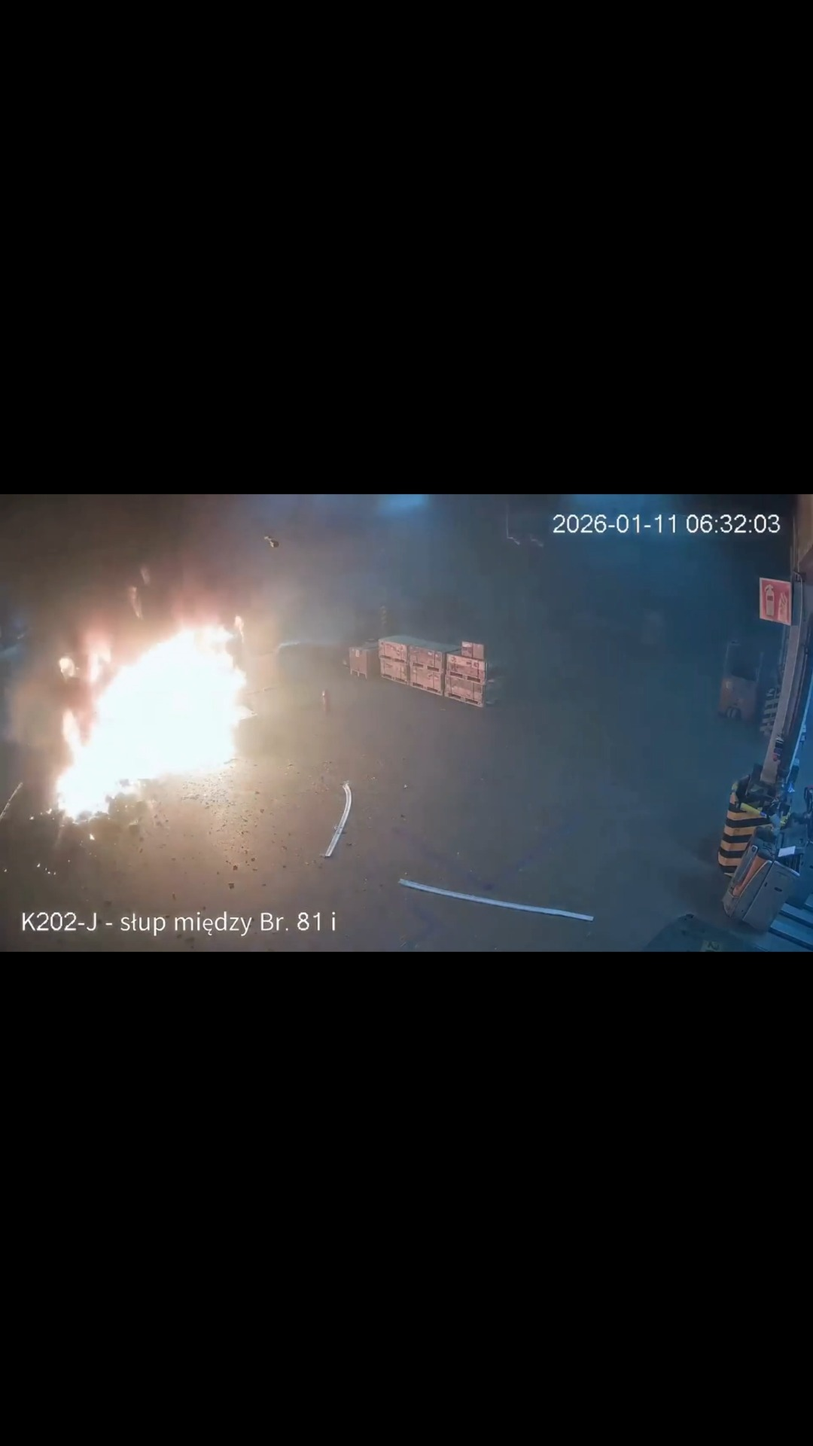fire: (50, 608, 258, 828)
smoke: (1, 495, 492, 694)
